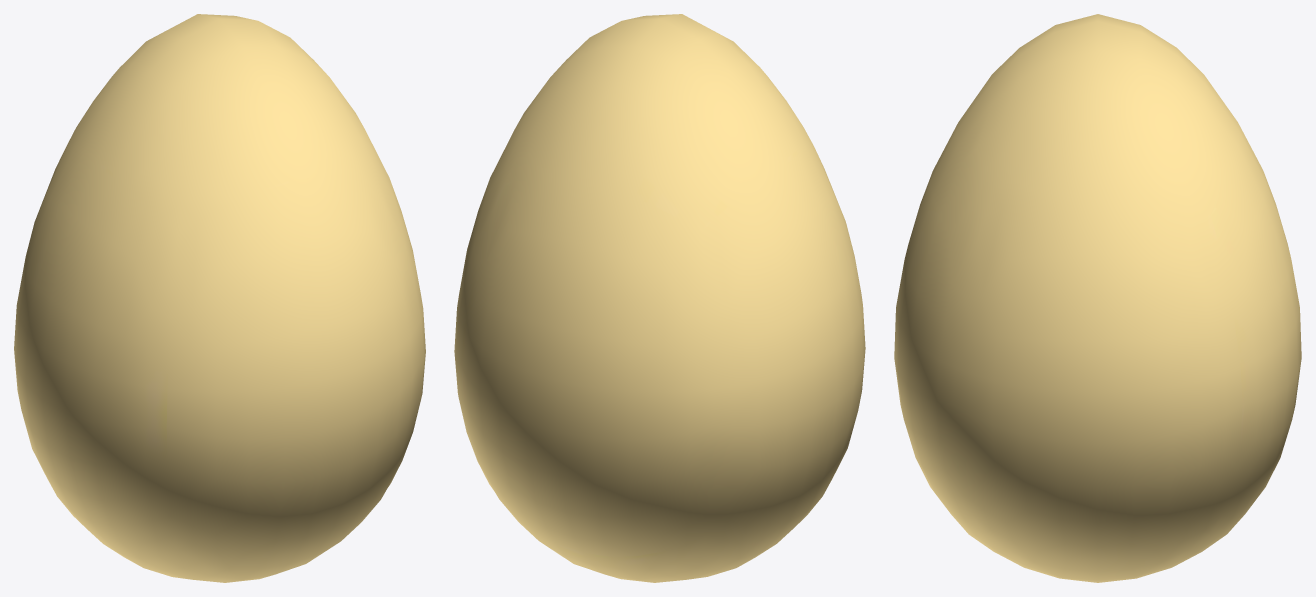
File: chocolateegg_gold.glb
3 views of the same model, side by side, from view 1: azimuth 30°, elevation 25°; view 2: azimuth 150°, elevation 25°; view 3: azimuth 270°, elevation 25° (orthographic).
Parts seen in each view (by area): view 1: ChocolateEgg_LOD0; view 2: ChocolateEgg_LOD0; view 3: ChocolateEgg_LOD0.
Part boxes in pixels (left/top/right/bottom): ChocolateEgg_LOD0: left=14, top=14, right=425, bottom=582; ChocolateEgg_LOD0: left=454, top=14, right=865, bottom=582; ChocolateEgg_LOD0: left=894, top=14, right=1301, bottom=582.
Size of the model in its own units: 0.1713 by 0.2519 by 0.1713.
Materials: 1 (1 with a texture image).
